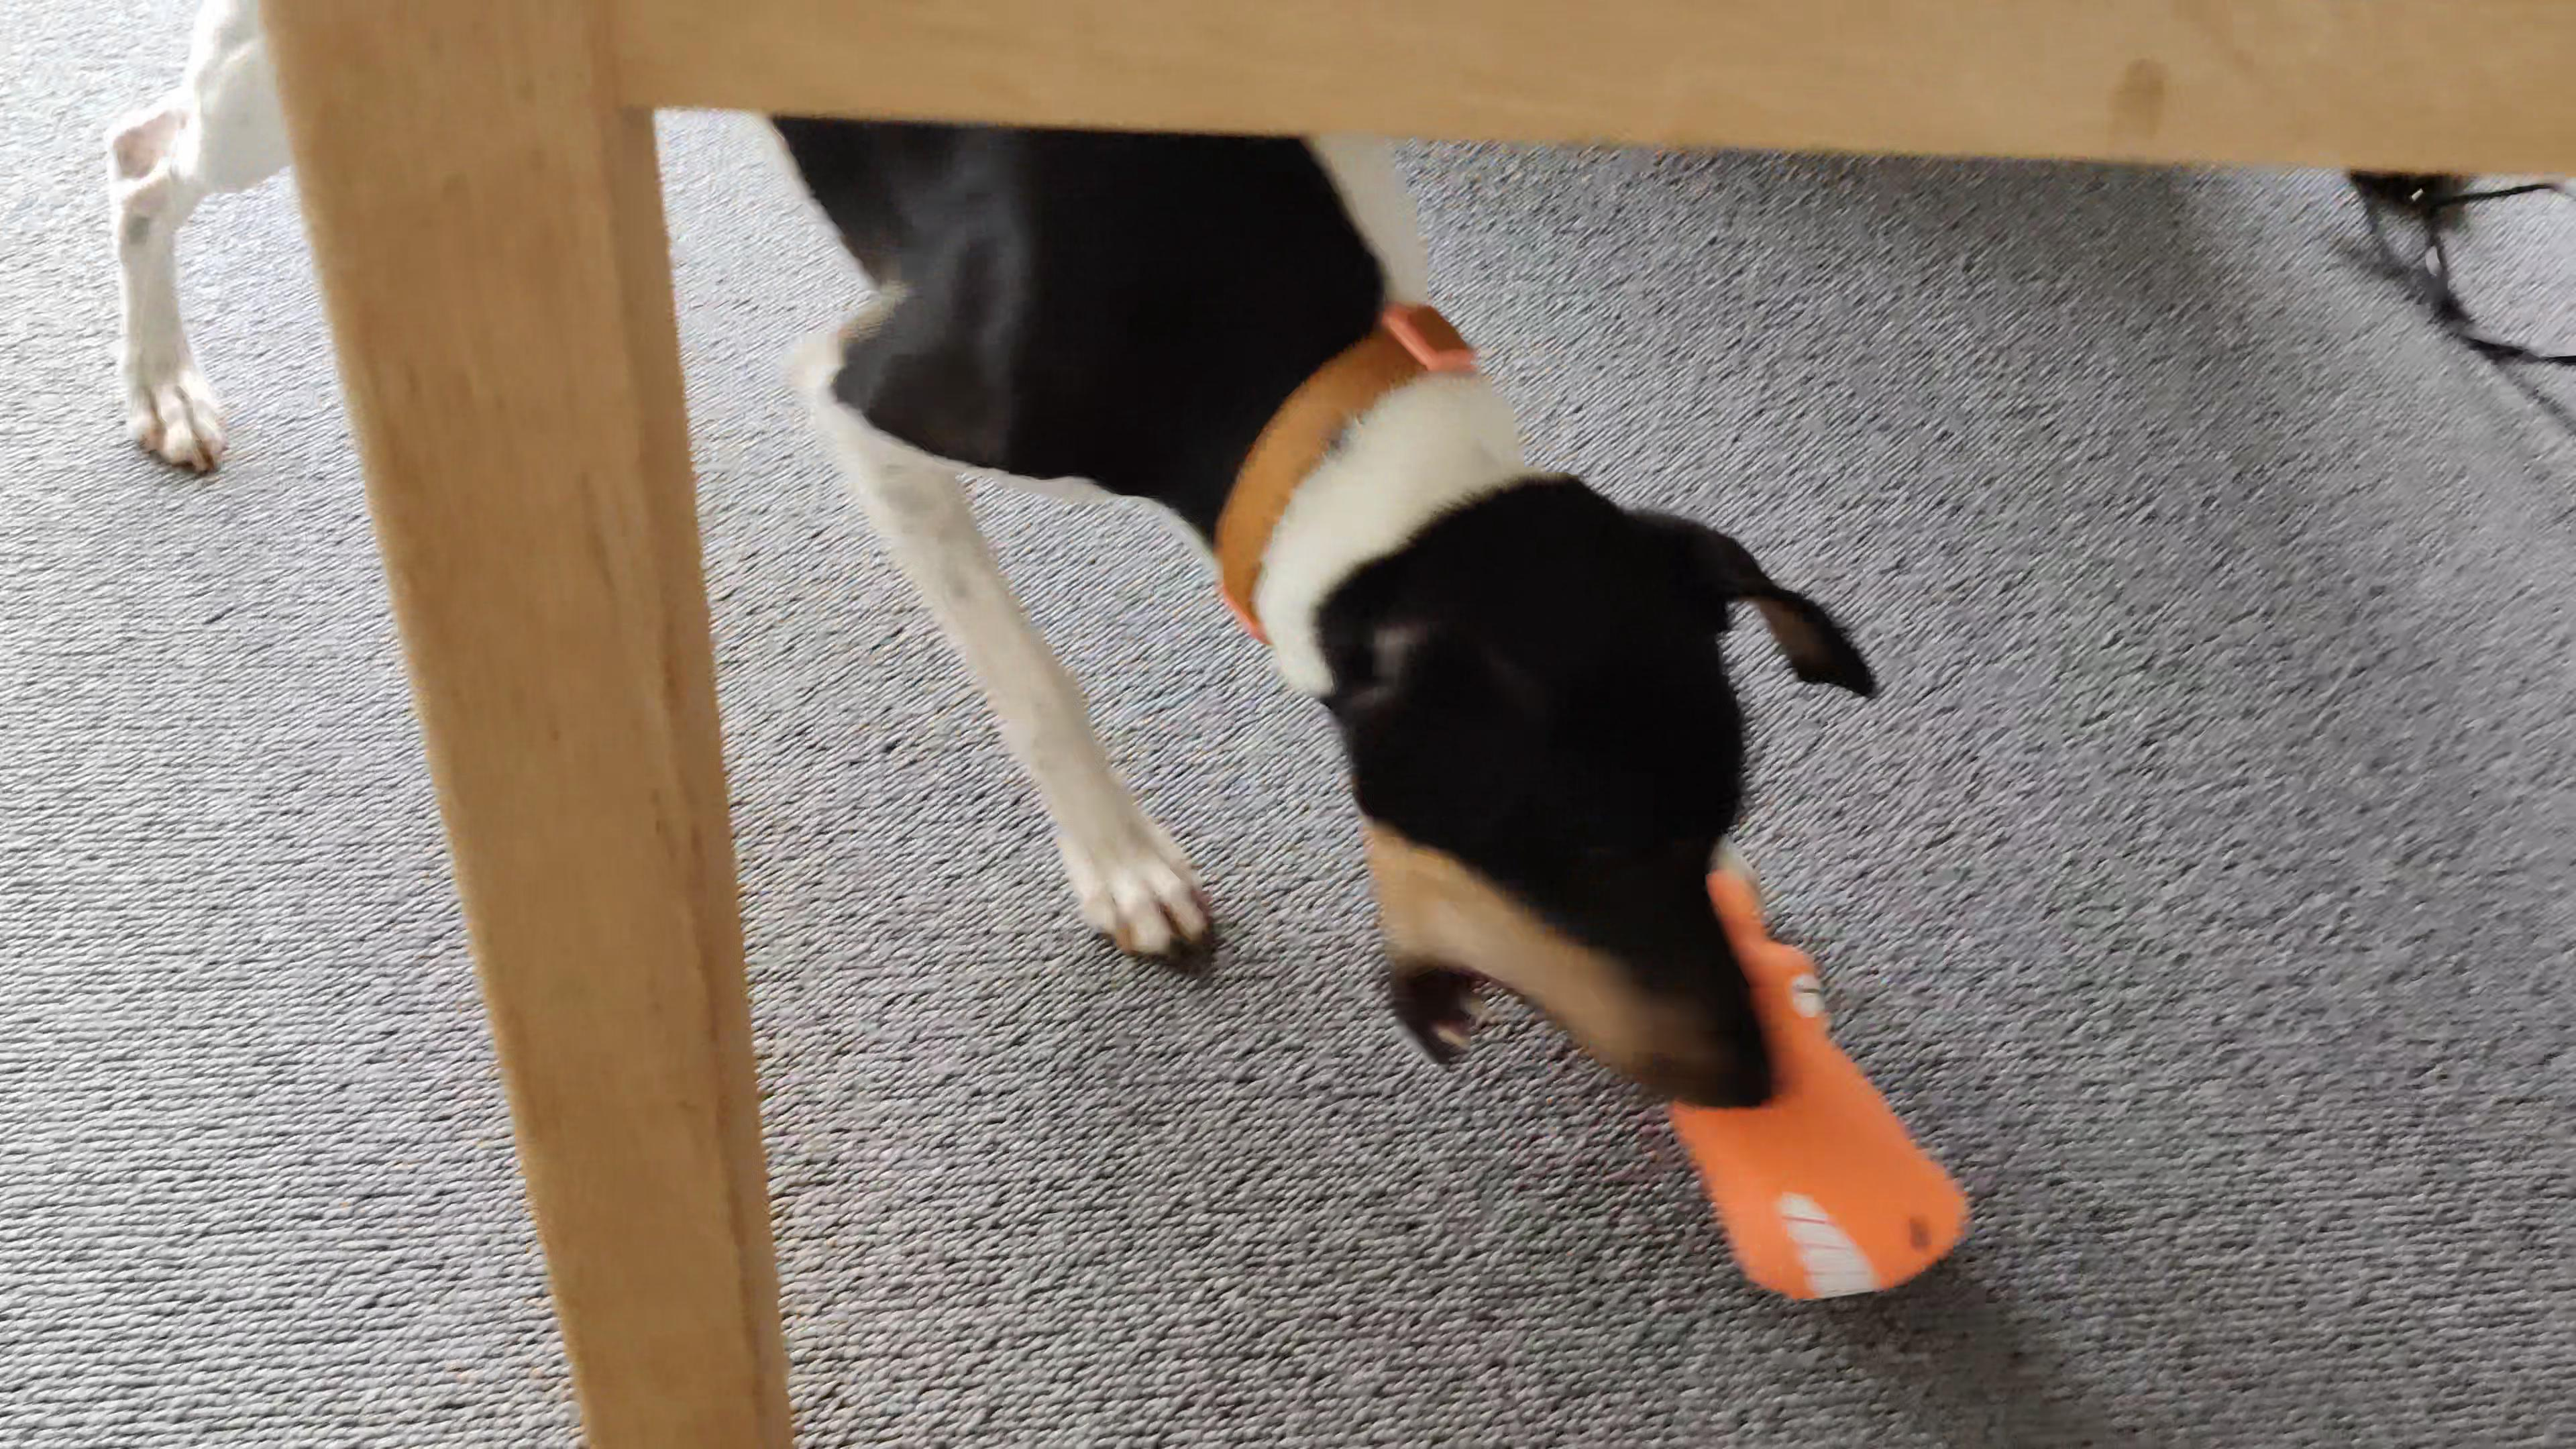Dog: (87, 0, 1891, 1125)
